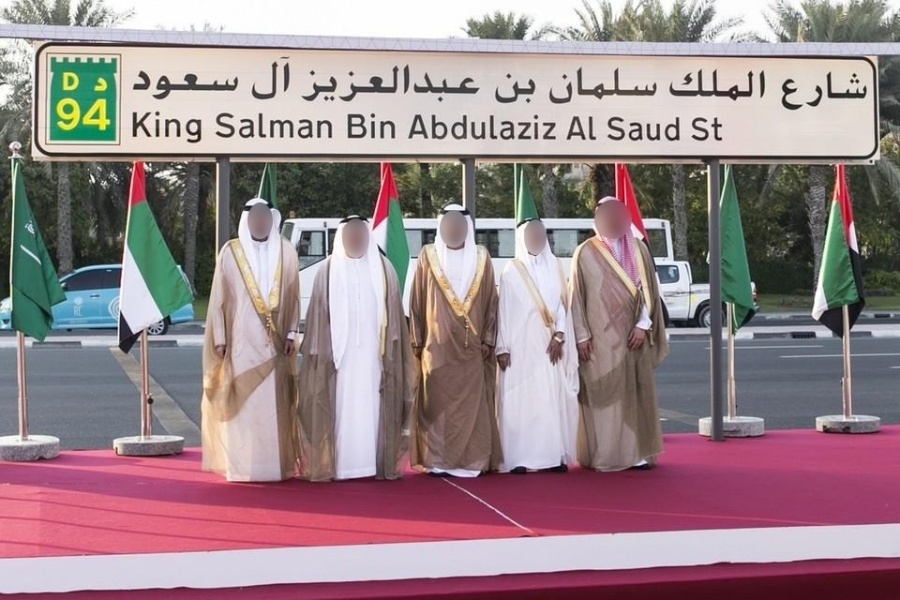text: (257, 52, 272, 103), (273, 52, 288, 103), (785, 69, 800, 112), (801, 69, 816, 112), (817, 69, 832, 112), (833, 69, 848, 112), (849, 69, 864, 112), (561, 64, 576, 106), (577, 64, 592, 106), (593, 64, 608, 106), (609, 64, 624, 106), (625, 64, 640, 106), (641, 64, 656, 106), (305, 64, 320, 105), (321, 64, 336, 105), (337, 64, 352, 105), (353, 64, 368, 105), (369, 64, 384, 105), (385, 64, 400, 105), (401, 64, 416, 105), (417, 64, 432, 105), (433, 64, 448, 105), (449, 64, 464, 105), (465, 64, 480, 105), (546, 64, 560, 106), (673, 66, 688, 104), (689, 66, 704, 104), (705, 66, 720, 104), (721, 66, 736, 104), (737, 66, 752, 104), (145, 108, 160, 145), (161, 108, 176, 145), (177, 108, 192, 145), (65, 96, 80, 133), (81, 96, 96, 133), (753, 66, 767, 104), (97, 96, 111, 133), (497, 72, 512, 106), (513, 72, 528, 106), (417, 111, 432, 142), (433, 111, 448, 142), (449, 111, 464, 142), (465, 111, 480, 142), (481, 111, 496, 142), (497, 111, 512, 142), (513, 111, 528, 142), (529, 111, 544, 142), (545, 111, 560, 142), (145, 71, 160, 101), (161, 71, 176, 101), (177, 71, 192, 101), (193, 71, 208, 101), (209, 71, 224, 101), (225, 71, 240, 101), (132, 108, 144, 145), (225, 111, 240, 140), (241, 111, 256, 140), (257, 111, 272, 140), (273, 111, 288, 140), (289, 111, 304, 140), (305, 111, 320, 140), (353, 113, 368, 141), (369, 113, 384, 141), (609, 115, 624, 143), (625, 115, 640, 143), (641, 115, 656, 143), (657, 115, 672, 143), (577, 116, 592, 142), (705, 116, 720, 142), (193, 108, 203, 145), (385, 113, 398, 141), (321, 111, 333, 140), (65, 70, 80, 93), (691, 116, 704, 142), (55, 96, 64, 133), (133, 71, 144, 101), (564, 116, 576, 142), (529, 72, 538, 106), (407, 111, 416, 142), (215, 111, 224, 140), (673, 115, 682, 143), (865, 69, 870, 112), (252, 52, 256, 103), (97, 76, 109, 93), (667, 66, 672, 104), (346, 113, 352, 141), (593, 116, 599, 142), (289, 52, 292, 103), (241, 71, 246, 101), (781, 69, 784, 112), (657, 64, 660, 106), (301, 64, 304, 105), (721, 116, 725, 142), (61, 70, 64, 93), (92, 76, 96, 93), (606, 115, 608, 143), (481, 64, 482, 105), (495, 72, 496, 106), (81, 70, 82, 93)
